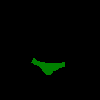mutande: (31, 57, 65, 75)
